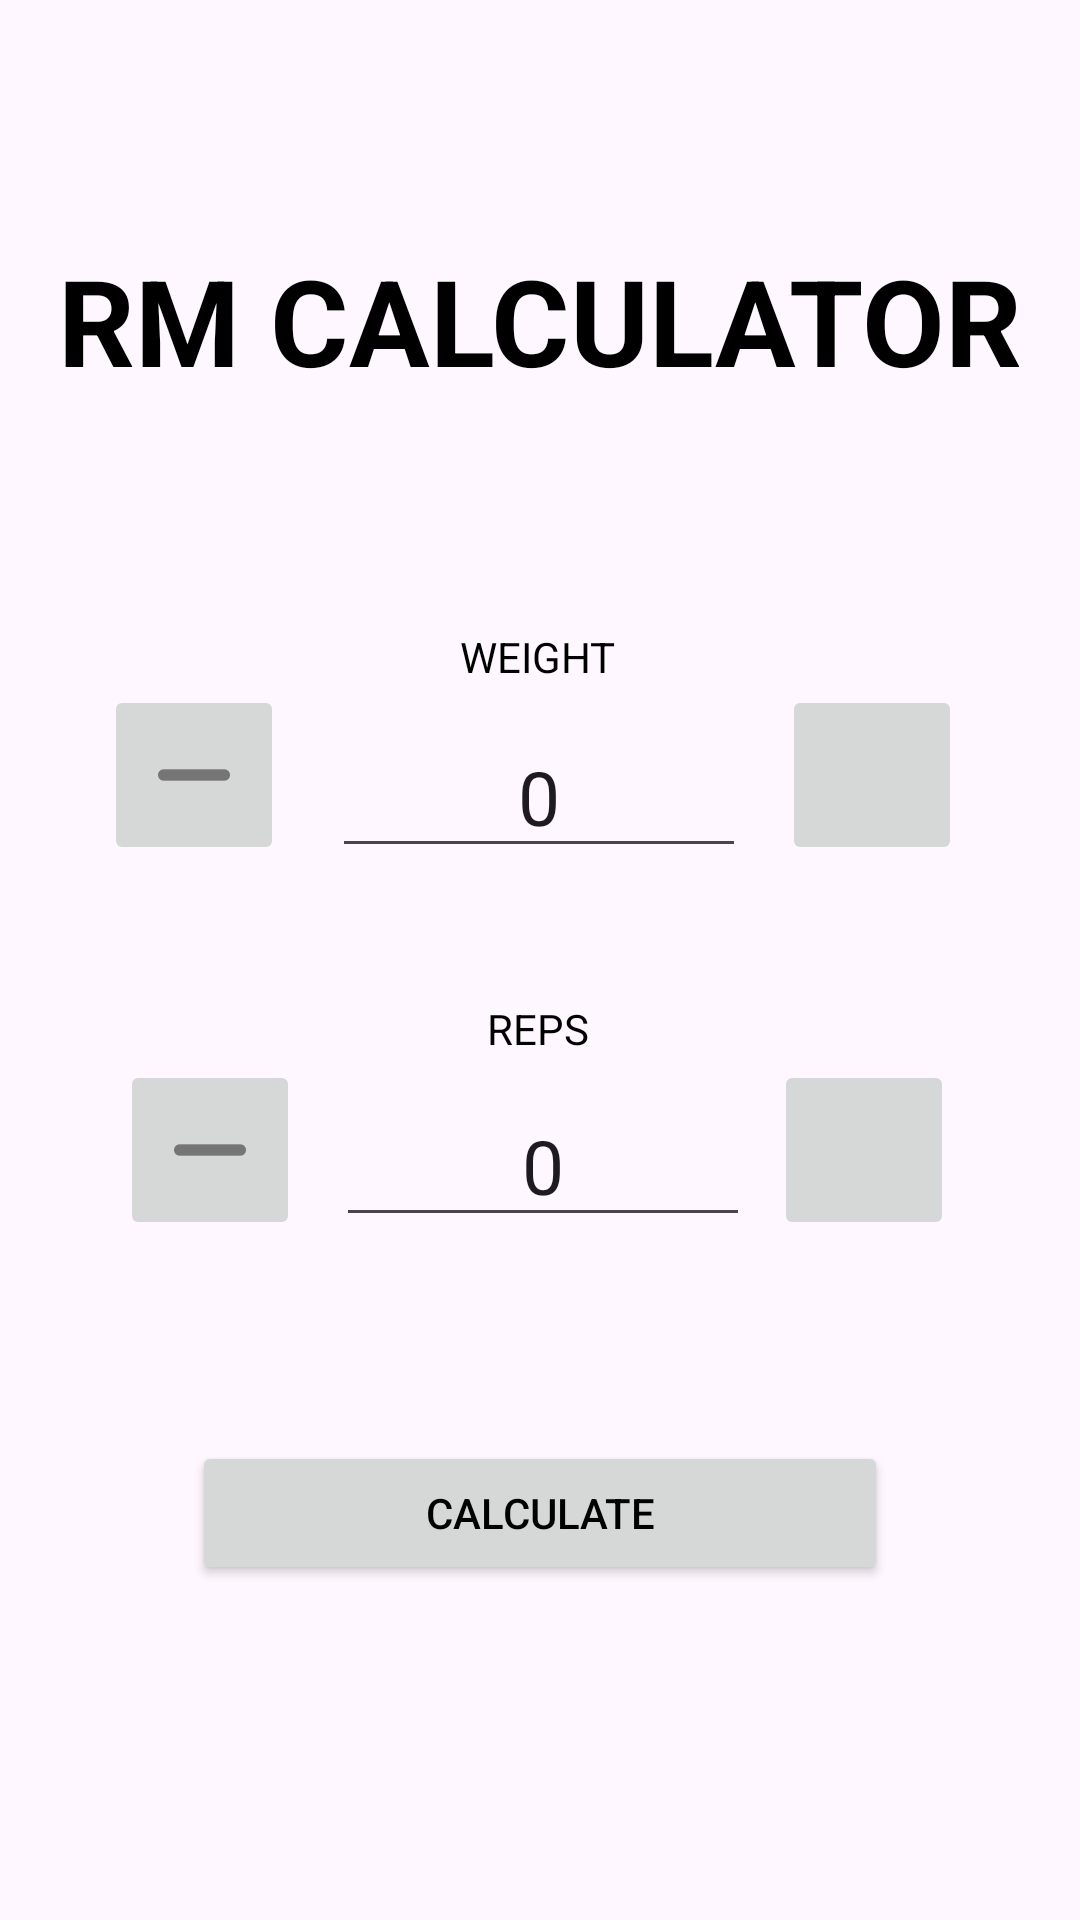

Named icons in this screenshot (1080px×1920px) and their centers, (x,y):
restar: (194,775), (210,1150)
